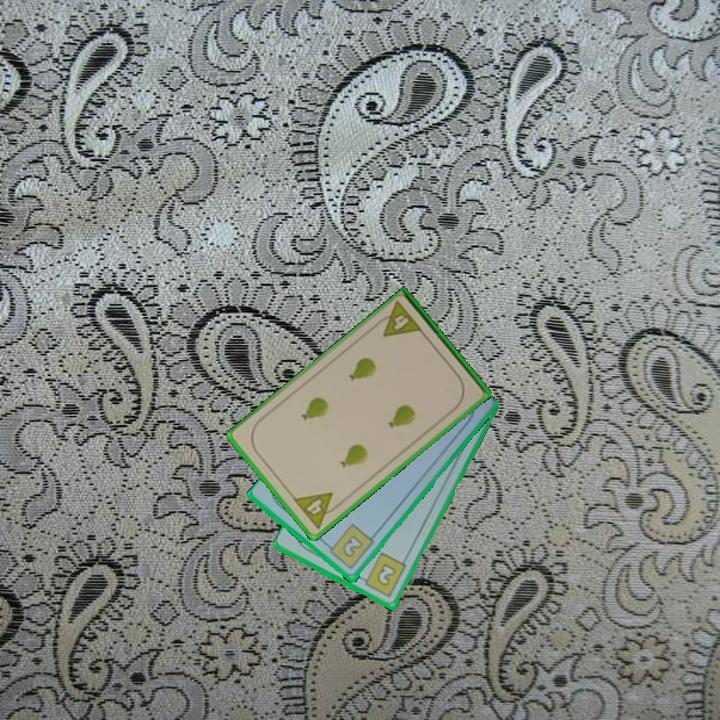2b: (322, 521, 377, 573), (357, 550, 409, 601)
4p: (290, 489, 344, 532), (372, 298, 426, 340)
